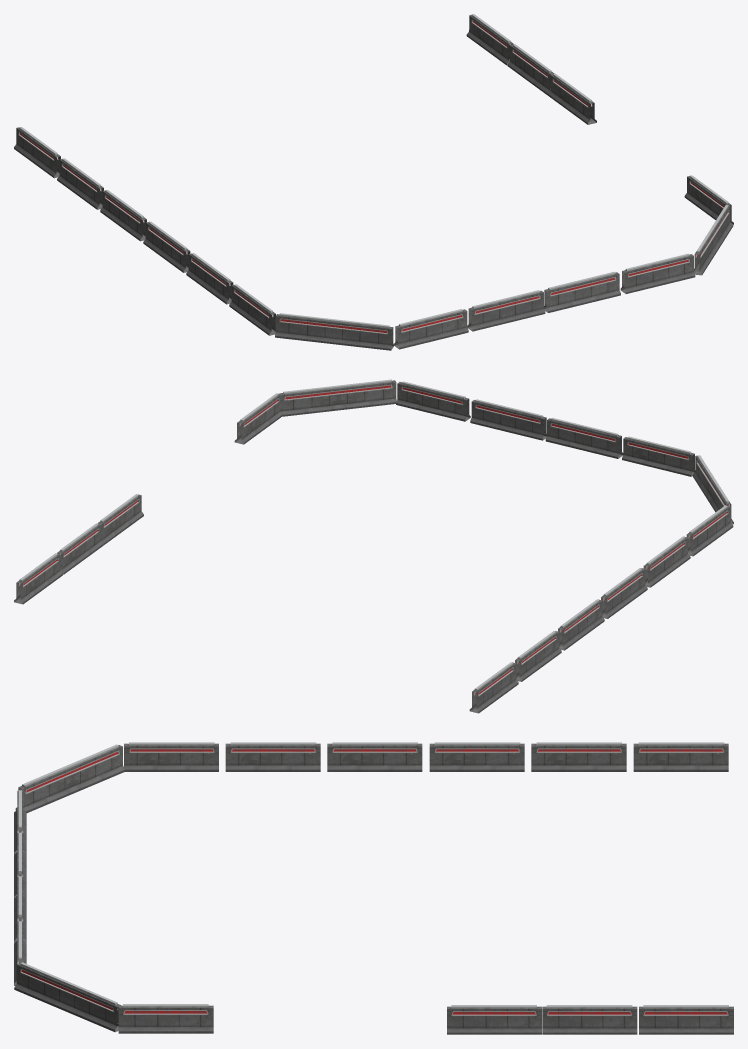
File: PlazaRailWall.fbx
The picture shows the model from 3 angles, top to bottom: view 1: azimuth 30°, elevation 25°; view 2: azimuth 150°, elevation 25°; view 3: azimuth 270°, elevation 25°; orthographic projection. The views are drawn at different scales.
Visible parts, largest first — view 1: PlazaRailWall; view 2: PlazaRailWall; view 3: PlazaRailWall.
Part boxes in pixels (x1=…): PlazaRailWall: x1=14, y1=14, x2=733, y2=350; PlazaRailWall: x1=14, y1=379, x2=733, y2=713; PlazaRailWall: x1=14, y1=742, x2=733, y2=1034.
Bounding box in the file's own units: 40.07 × 1.83 × 45.47.
